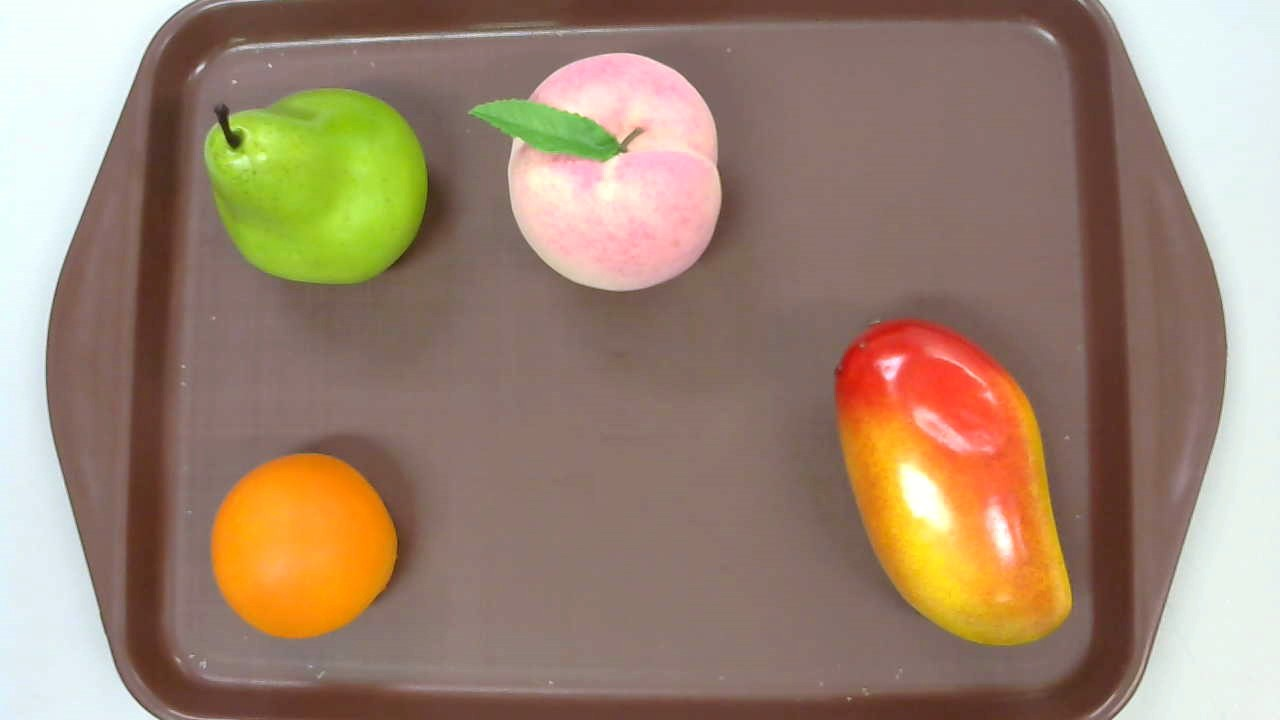bun: (211, 452, 397, 639)
green pear: (204, 87, 428, 287)
peach: (465, 53, 723, 294)
red mango: (835, 316, 1072, 644)
